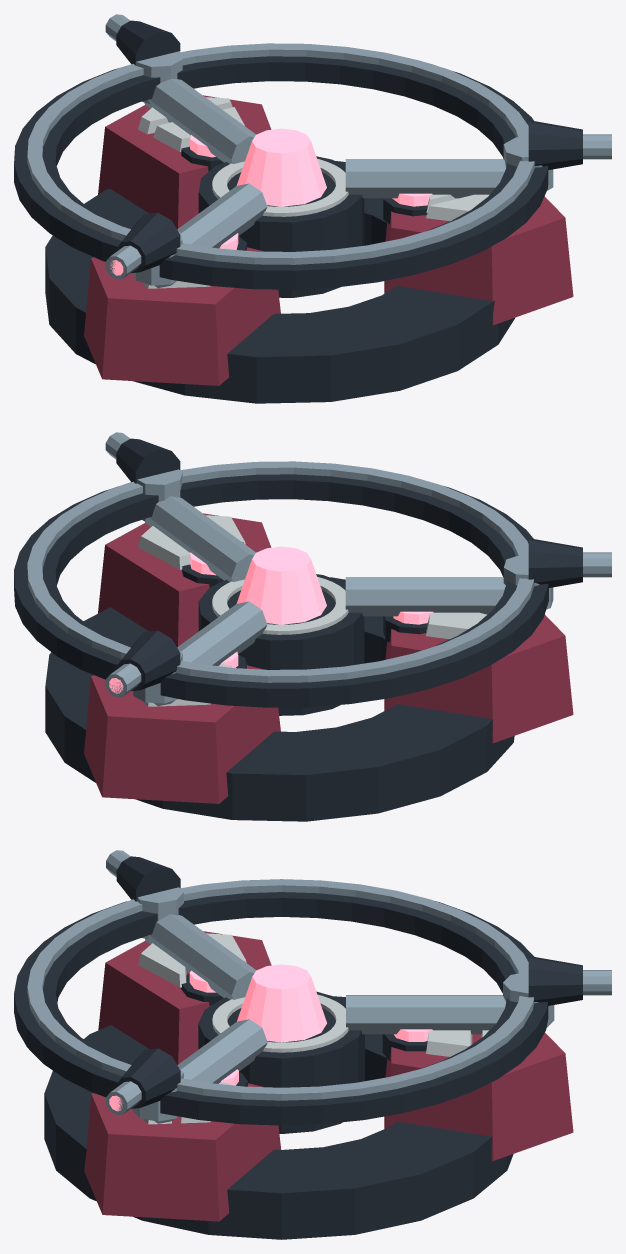
Rendered from c1_spiral.glb.
3 views of the same model, one above another, from view 1: azimuth 30°, elevation 25°; view 2: azimuth 150°, elevation 25°; view 3: azimuth 270°, elevation 25° (orthographic).
Visible parts, largest first — view 1: c1_spiral / Chassis, c1_spiral / Armor, radial_rotor / Chassis, radial_rotor / Titanium, c1_spiral / Energy, c1_spiral / Identification; view 2: c1_spiral / Chassis, c1_spiral / Armor, radial_rotor / Chassis, radial_rotor / Titanium, c1_spiral / Energy, c1_spiral / Identification; view 3: c1_spiral / Chassis, c1_spiral / Armor, radial_rotor / Chassis, radial_rotor / Titanium, c1_spiral / Energy, c1_spiral / Identification.
Part boxes in pixels (left/top/right/bottom): c1_spiral / Chassis: left=45, top=146, right=514, bottom=403; c1_spiral / Armor: left=84, top=95, right=573, bottom=385; radial_rotor / Chassis: left=14, top=20, right=582, bottom=289; radial_rotor / Titanium: left=27, top=14, right=611, bottom=287; c1_spiral / Energy: left=190, top=128, right=432, bottom=249; c1_spiral / Identification: left=133, top=97, right=489, bottom=288; c1_spiral / Chassis: left=45, top=564, right=514, bottom=821; c1_spiral / Armor: left=84, top=513, right=573, bottom=803; radial_rotor / Chassis: left=14, top=438, right=582, bottom=707; radial_rotor / Titanium: left=27, top=432, right=611, bottom=705; c1_spiral / Energy: left=190, top=546, right=433, bottom=667; c1_spiral / Identification: left=133, top=515, right=486, bottom=706; c1_spiral / Chassis: left=44, top=973, right=513, bottom=1239; c1_spiral / Armor: left=84, top=931, right=573, bottom=1221; radial_rotor / Chassis: left=14, top=856, right=582, bottom=1125; radial_rotor / Titanium: left=27, top=850, right=611, bottom=1123; c1_spiral / Energy: left=189, top=964, right=432, bottom=1085; c1_spiral / Identification: left=138, top=933, right=488, bottom=1124.
Bounding box in the file's own units: 1.82 × 0.625 × 1.86.
